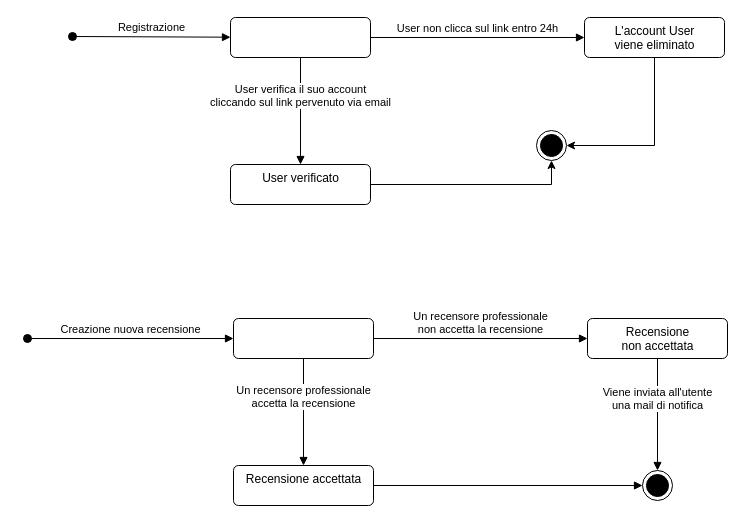
This 745x523 diagram has some shape labels left out. Here are the shapes that lost their labels. From the top down, the centre of each, then its label:
At point (300, 37): "User non verificato".
At point (303, 338): "Recensione in pending".
